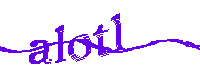a: (27, 38, 51, 67)
l: (52, 23, 68, 66), (110, 11, 127, 51)
o: (67, 31, 94, 62)
t: (92, 21, 112, 61)
